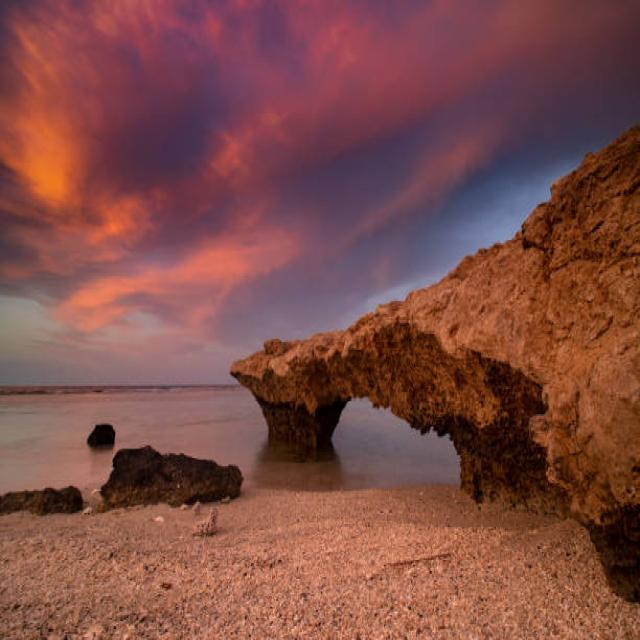Sedimentary: (234, 132, 635, 541)
